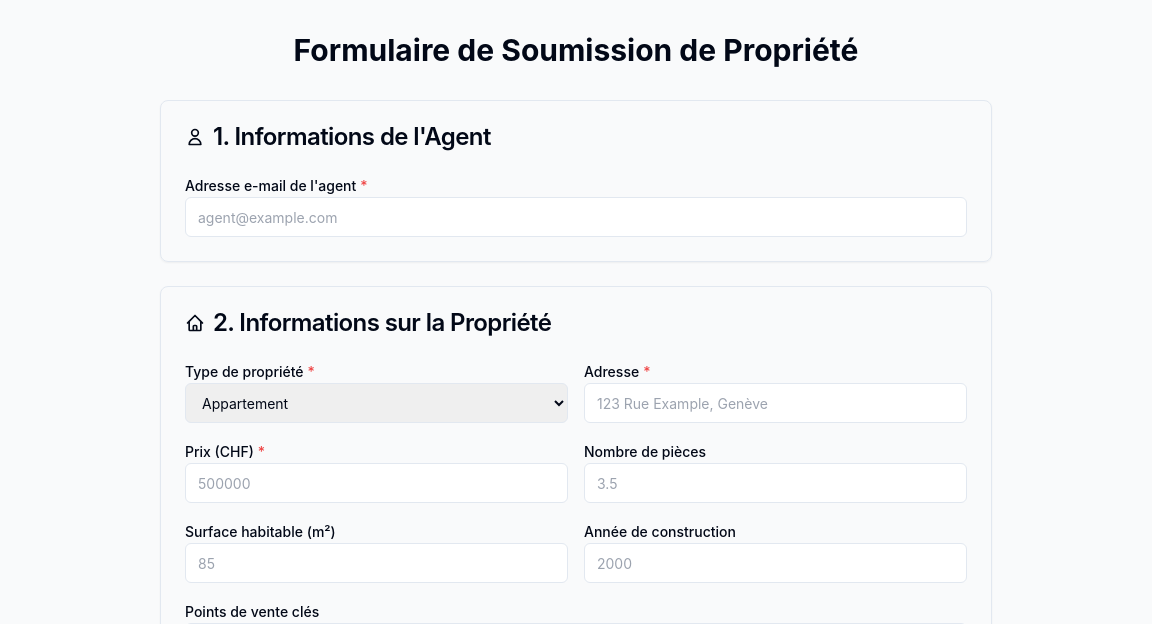
Test: DossierForm Integration Tests › validates price format
Type "abc123" into the field labelled "Prix (CHF)*" at (376, 483), box [185, 463, 568, 503]
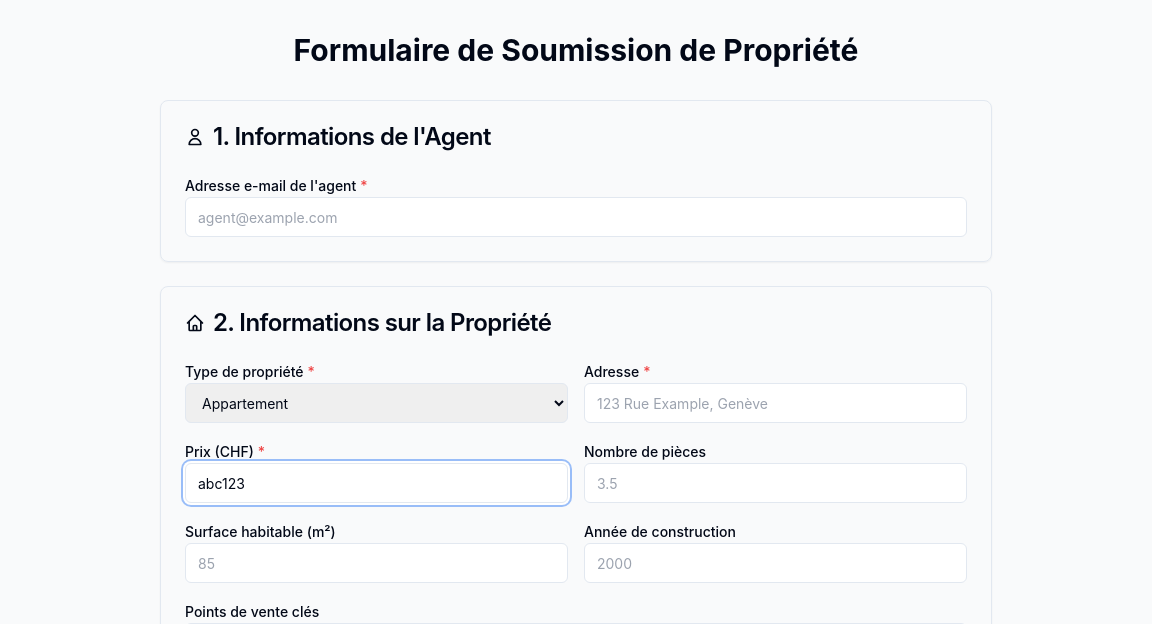
Press Tab
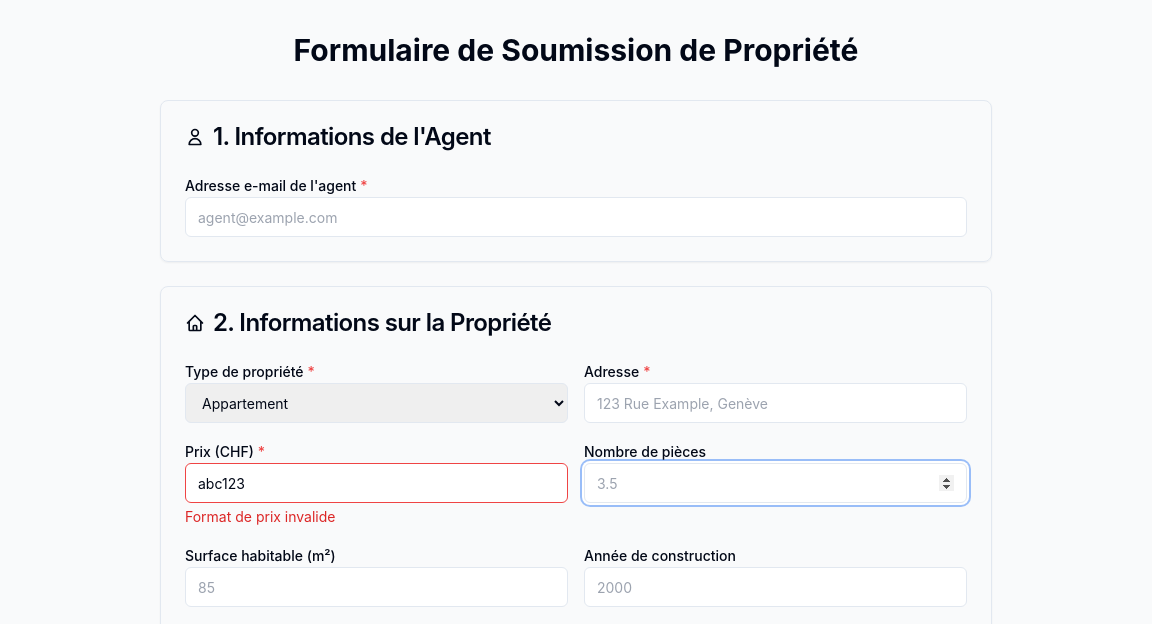
Check: the text "Format de prix invalide" is shown, box [185, 508, 336, 525]
